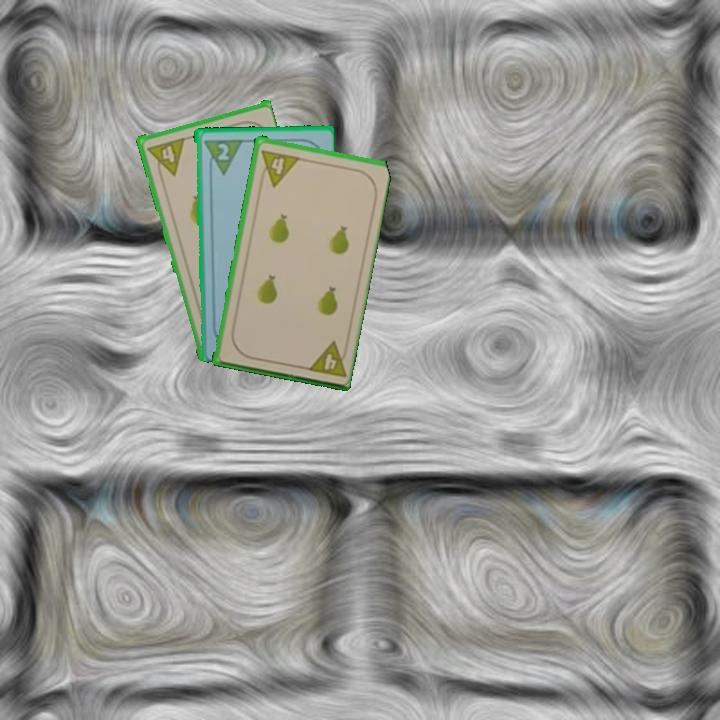2p: (200, 136, 243, 177)
4p: (302, 337, 351, 380), (143, 134, 187, 181), (256, 146, 301, 188)
